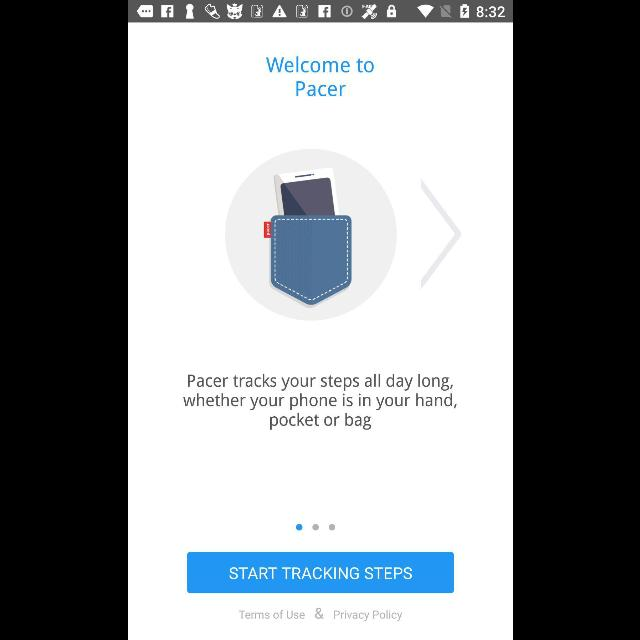icon: (418, 178, 462, 288)
image: (224, 148, 396, 320)
pageindicator: (294, 523, 336, 531)
text: (182, 372, 456, 430), (265, 56, 373, 98), (238, 608, 402, 622)
textbutton: (186, 552, 454, 594)
uppertaskbar: (128, 1, 512, 23)
